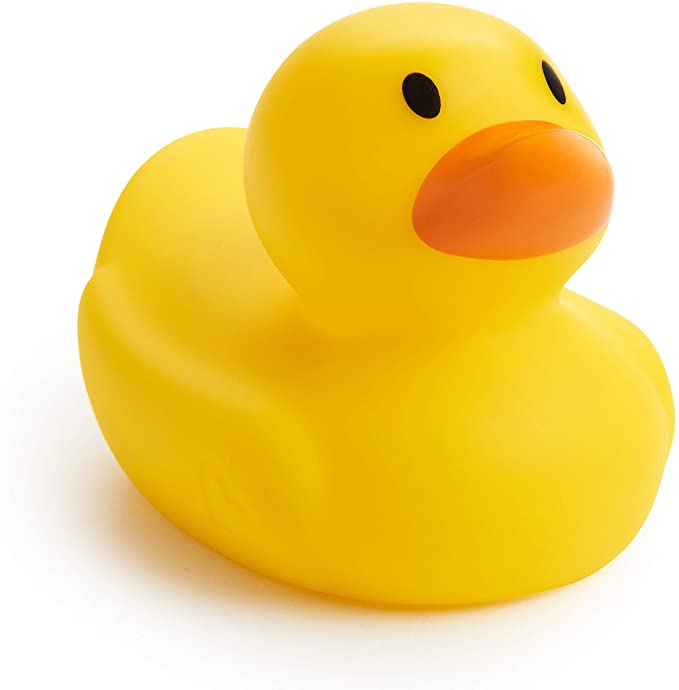Duck: (76, 4, 676, 619)
